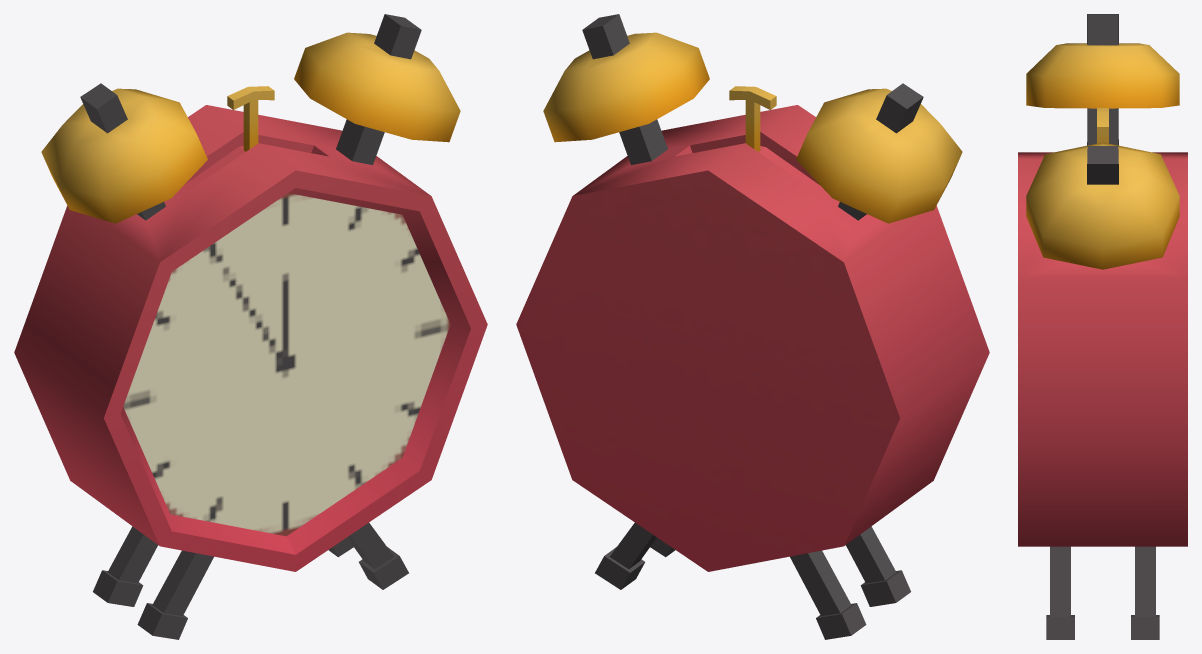
The model's file is SM_Alarm_05.fbx.
3 renders of one model, left to right at view 1: azimuth 30°, elevation 25°; view 2: azimuth 150°, elevation 25°; view 3: azimuth 270°, elevation 25°, orthographic. The views are drawn at different scales.
Parts seen in each view (by area): view 1: M_Alarm_5; view 2: M_Alarm_5; view 3: M_Alarm_5.
Boxes of the visible parts, left/top/right/bottom form: M_Alarm_5: left=14, top=14, right=487, bottom=639; M_Alarm_5: left=516, top=14, right=989, bottom=639; M_Alarm_5: left=1018, top=14, right=1187, bottom=639.
Size of the model in its own units: 20.59 by 27.47 by 8.28.
